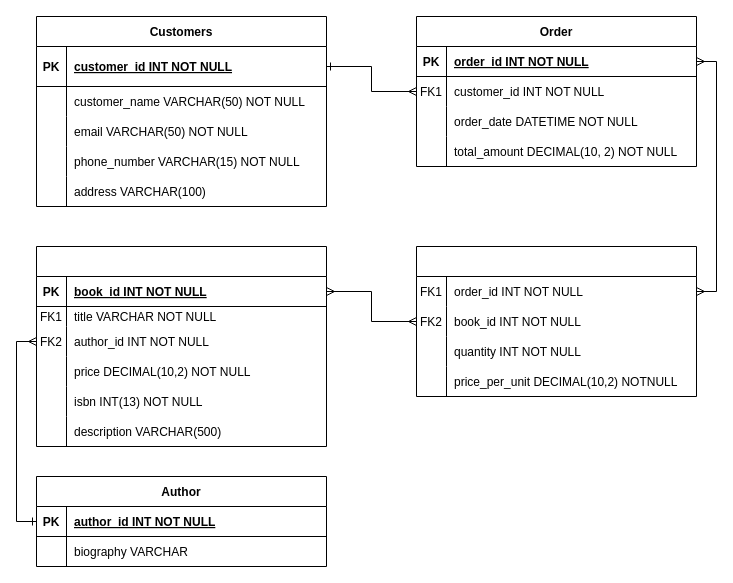
The diagram is 733 pixels wide and 583 high, and some of its shapes have lost their labels. Each missing label, with the box of its shape:
Books: (36, 246, 326, 446)
Order Details: (416, 246, 696, 396)
